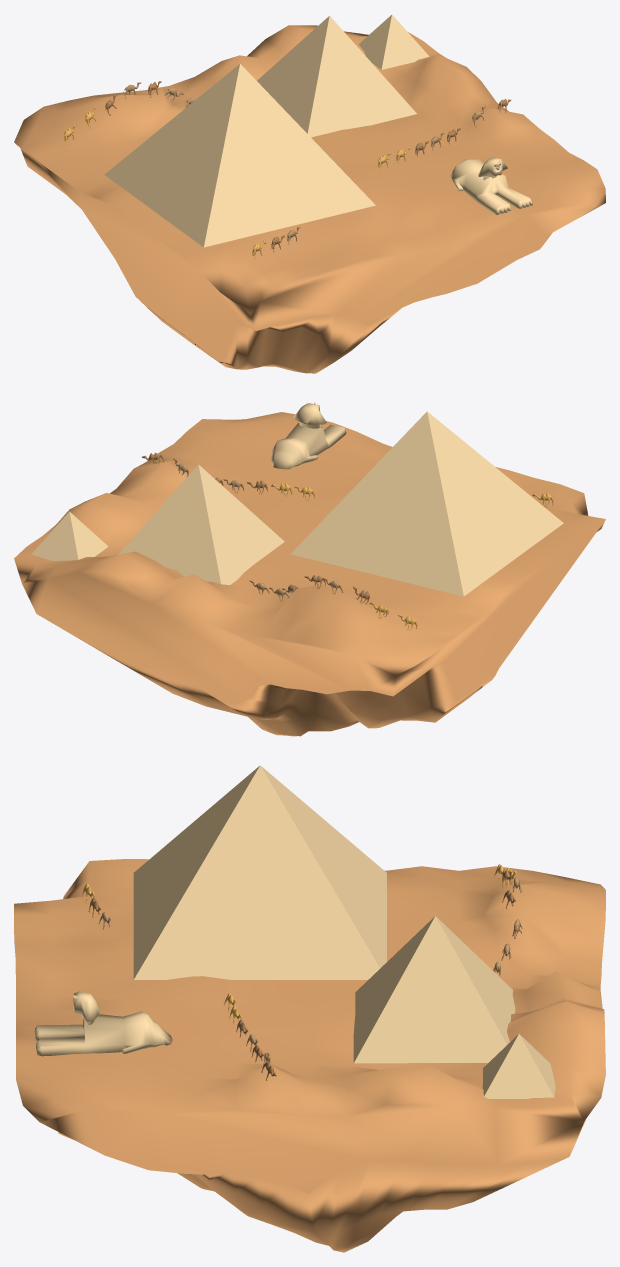
File: piramidi_egitto.glb
3 views of the same model, one above another, from view 1: azimuth 30°, elevation 25°; view 2: azimuth 150°, elevation 25°; view 3: azimuth 270°, elevation 25° (orthographic). The views are drawn at different scales.
Visible parts, largest first — view 1: Cube, Cono, Cono.001, Cubo.001, Cono.002, Cilindro.001; view 2: Cube, Cono, Cono.001, Cubo.001, Cono.002, Cilindro.001; view 3: Cube, Cono, Cono.001, Cubo.001, Cono.002.
Boxes of the visible parts, box(x1,y1,x2,y2) form: Cube: box(14, 25, 605, 373); Cono: box(104, 64, 375, 247); Cono.001: box(257, 16, 416, 137); Cubo.001: box(450, 157, 532, 214); Cono.002: box(358, 14, 429, 69); Cilindro.001: box(377, 128, 460, 170); Cube: box(14, 412, 605, 736); Cono: box(290, 411, 563, 596); Cono.001: box(118, 464, 284, 584); Cubo.001: box(271, 402, 346, 469); Cono.002: box(31, 511, 108, 560); Cilindro.001: box(212, 476, 315, 500); Cube: box(14, 859, 605, 1252); Cono: box(133, 765, 386, 979); Cono.001: box(353, 916, 515, 1063); Cubo.001: box(34, 991, 172, 1056); Cono.002: box(482, 1034, 555, 1098).
Size of the model in its own units: 2.73 by 2.12 by 2.74.
